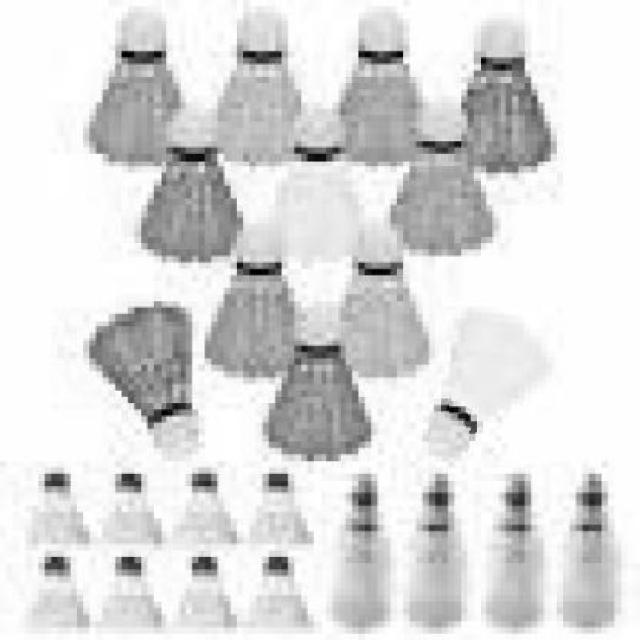Shuttlecock: (431, 309, 557, 466)
